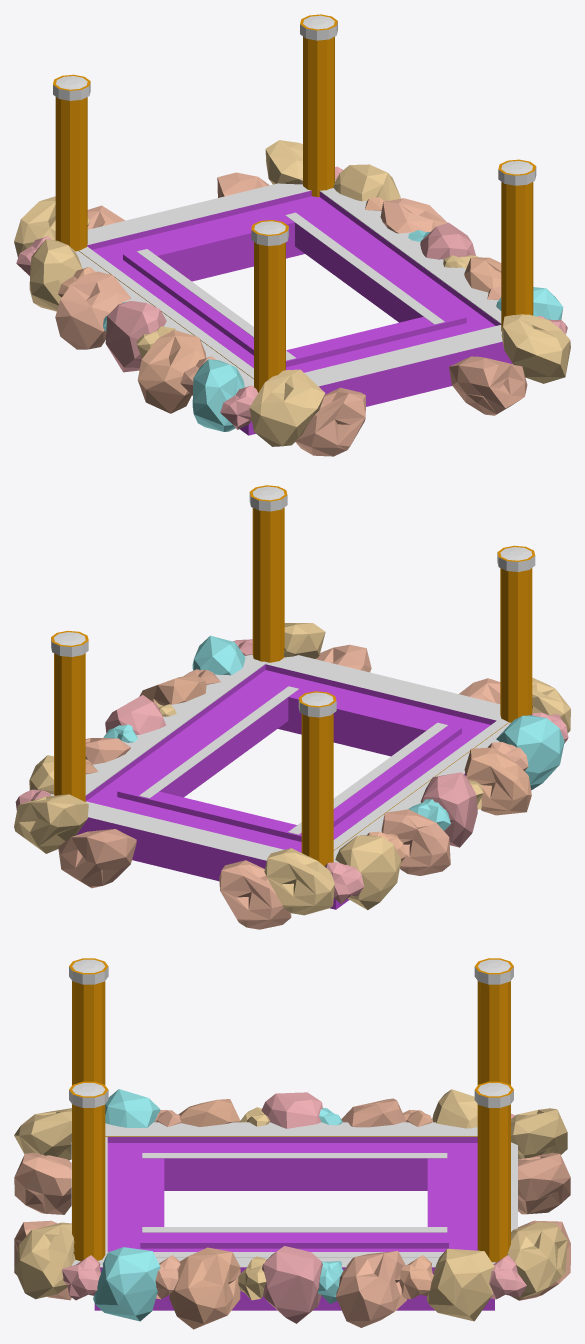
The model's file is DocaMermaoFINAL.fbx.
3 views of the same model, one above another, from view 1: azimuth 30°, elevation 25°; view 2: azimuth 150°, elevation 25°; view 3: azimuth 270°, elevation 25° (orthographic). The views are drawn at different scales.
Parts seen in each view (by area): view 1: DocaMermao; view 2: DocaMermao; view 3: DocaMermao.
Boxes of the visible parts, x1,y1,x2,y2 form: DocaMermao: [14, 14, 570, 456]; DocaMermao: [14, 485, 570, 929]; DocaMermao: [14, 958, 570, 1329].
Size of the model in its own units: 1107 by 607 by 1336.
